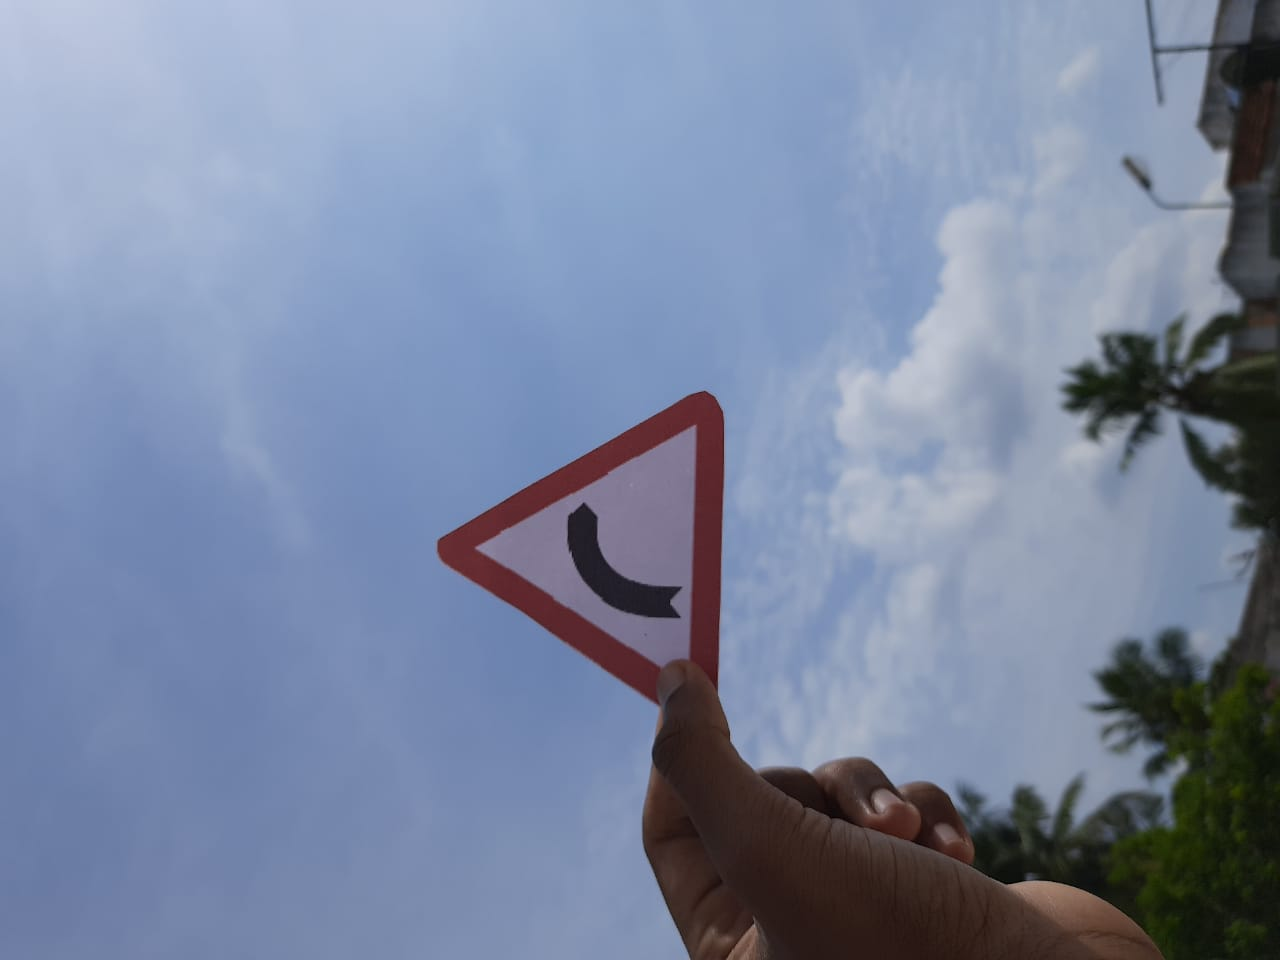RIGHT CURVE: (428, 386, 787, 734)
